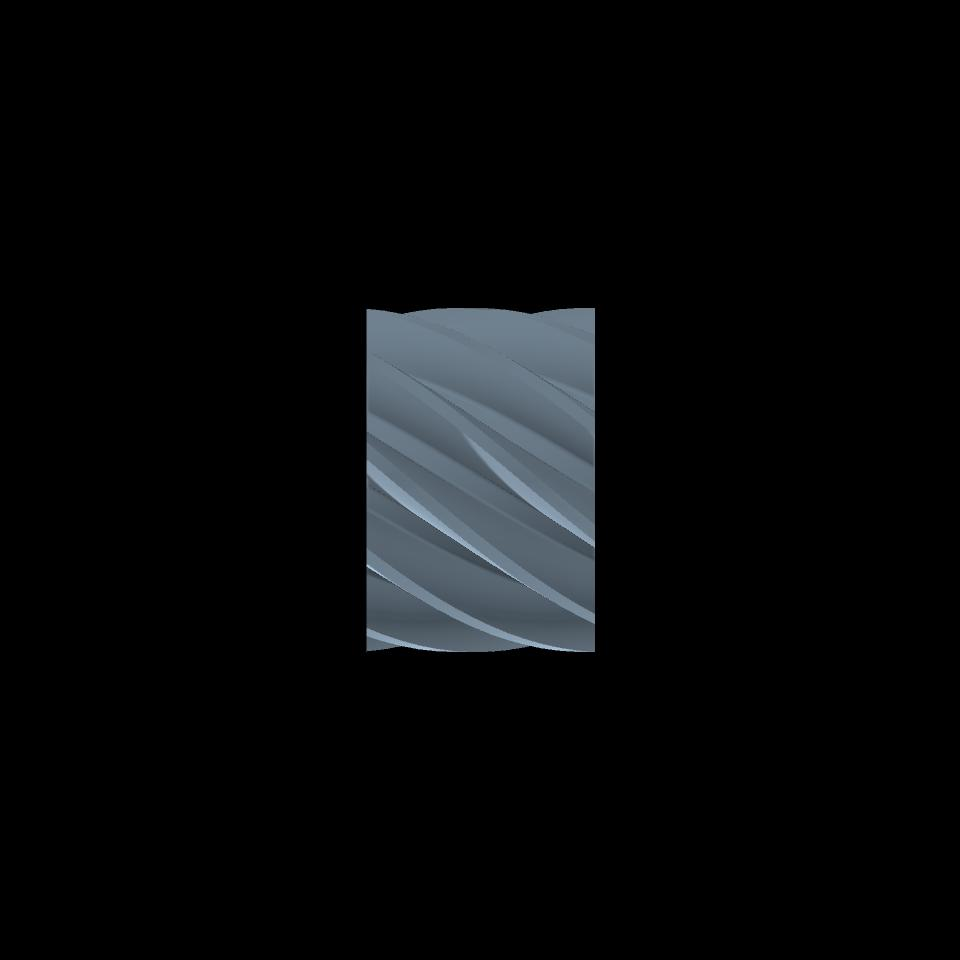Helical: (365, 308, 595, 652)
